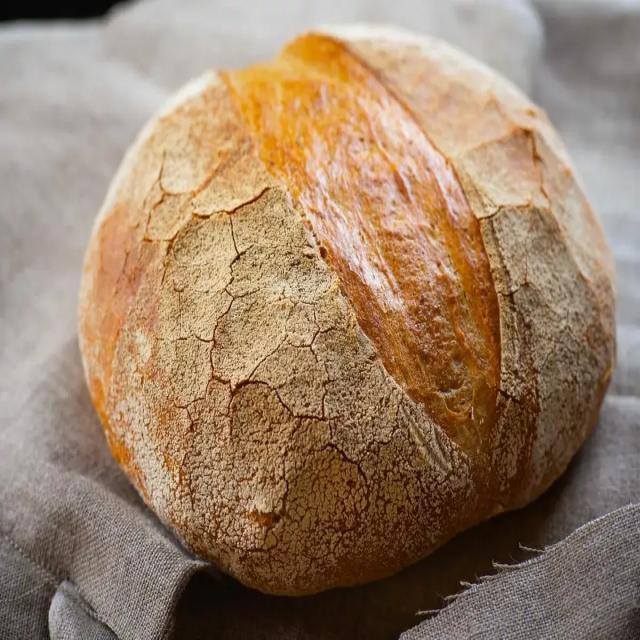Maltese-Bread: (79, 33, 615, 594)
